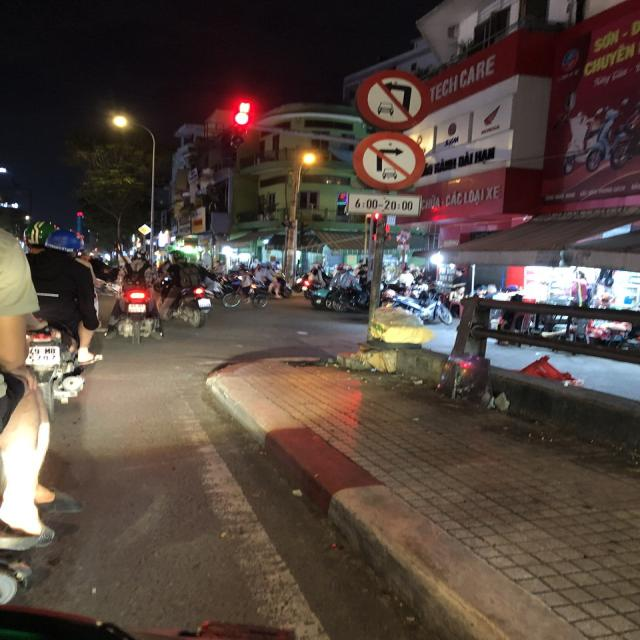Bien bao cam xe o to re phai: (346, 128, 432, 196)
Bien bao cam xe o to re trai: (350, 65, 436, 133)
